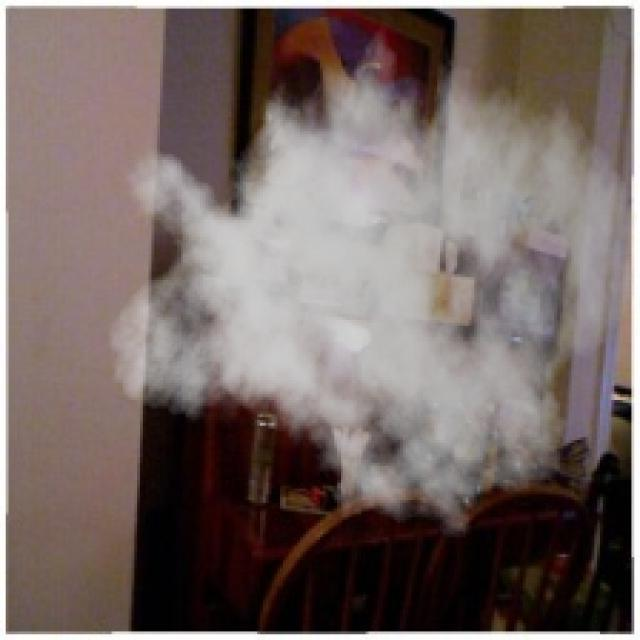Smoke: (105, 6, 638, 552)
